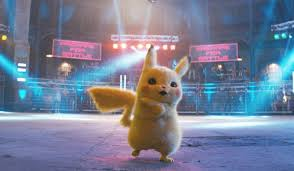pikachu: (88, 49, 193, 163)
